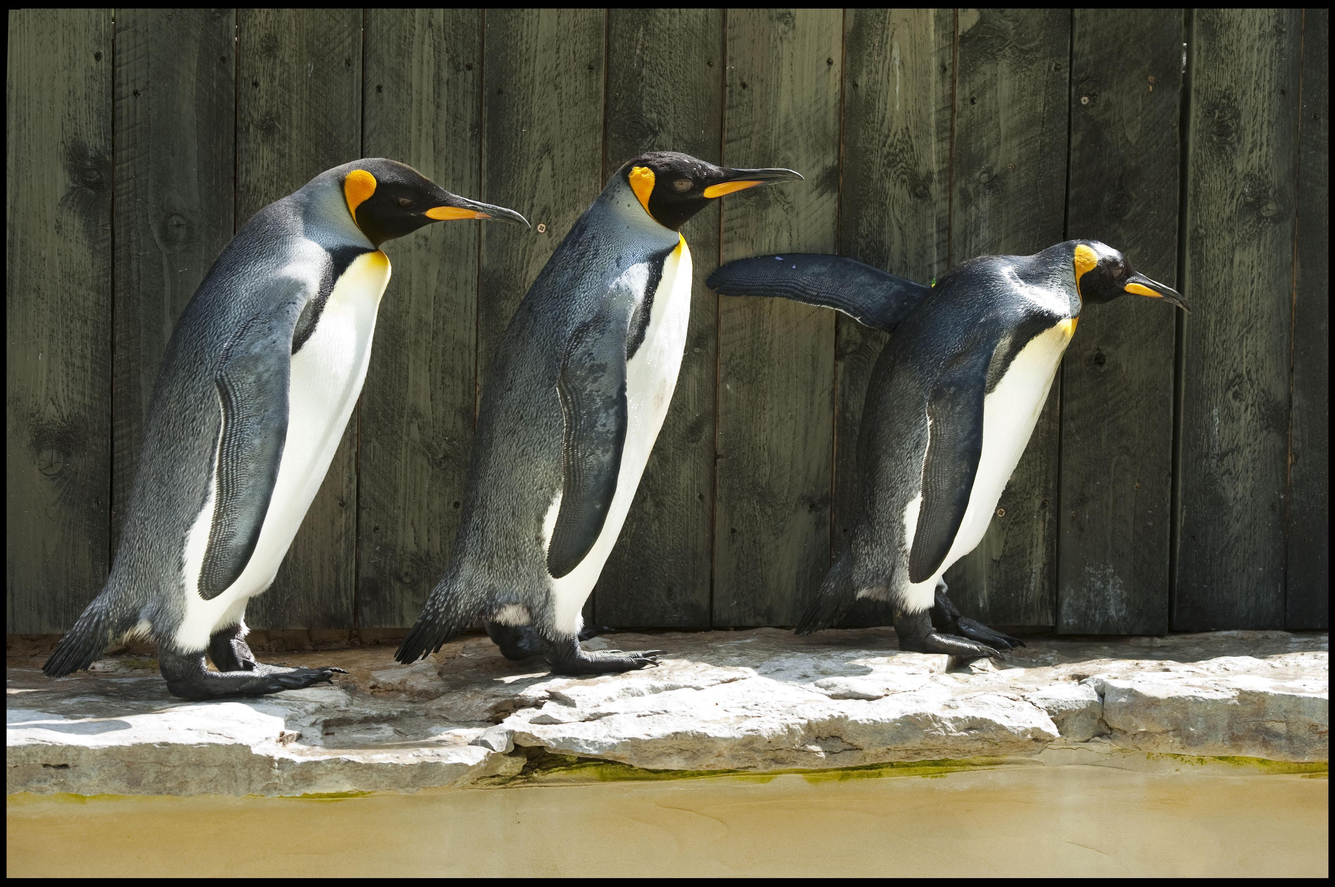Penguin: (44, 159, 527, 701), (396, 151, 800, 675), (706, 240, 1189, 659)
